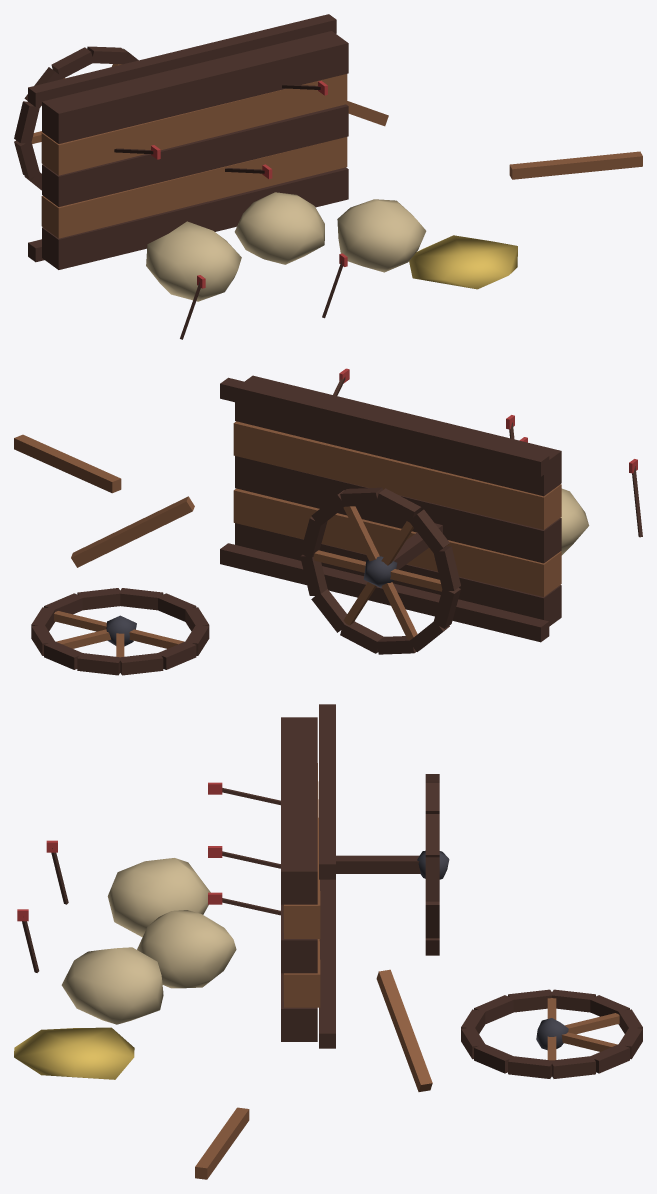
Rendered from cart_wreck.glb.
3 renders of one model, top to bottom at view 1: azimuth 30°, elevation 25°; view 2: azimuth 150°, elevation 25°; view 3: azimuth 270°, elevation 25°, orthographic. The views are drawn at different scales.
Visible parts, largest first — view 1: plank0; view 2: plank0; view 3: plank0.
Boxes of the visible parts, bbox=[...] form: plank0: bbox=[14, 14, 642, 339]; plank0: bbox=[14, 368, 642, 675]; plank0: bbox=[14, 704, 642, 1179].
Bounding box in the file's own units: 4.96 × 1.5 × 4.48.
